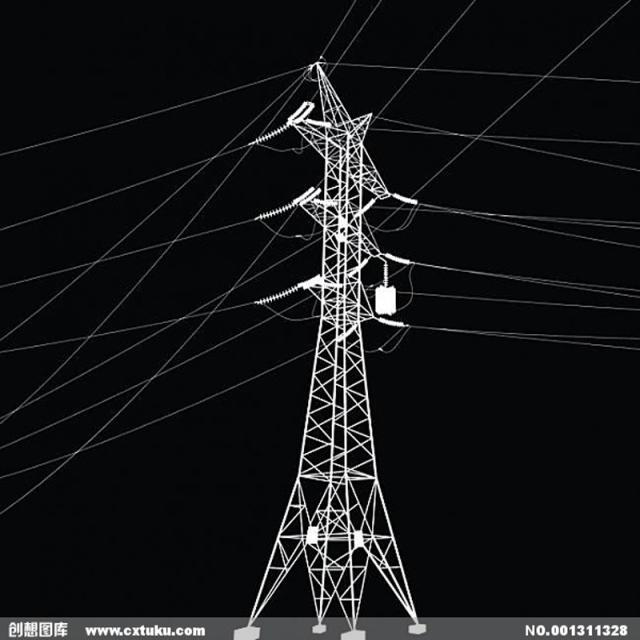non-critical vegetation: (210, 50, 448, 625)
